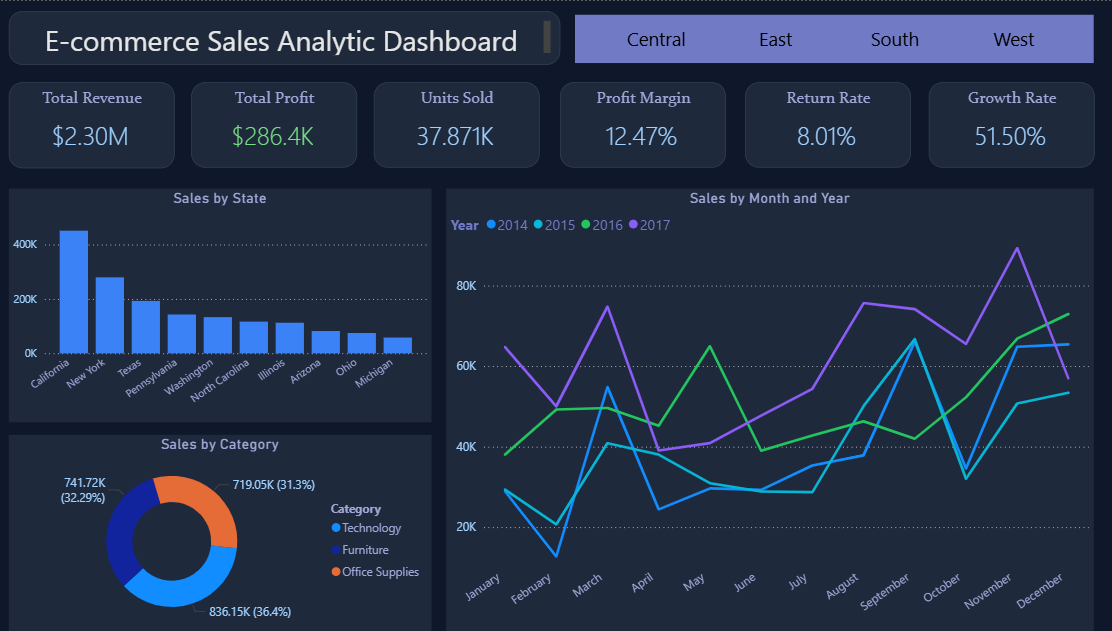

What the dashboard file says about the page in this screenshot:
{"tool":"powerbi","page":{"name":"Dashboard","canvas":[1280,720],"ordinal":0},"visuals":[{"type":"textbox","box":[10,11.7,630,61.7],"z":0},{"type":"cardVisual","title":"Total Revenue","fields":{"Data":["Sum(fact_orders__2.Sales)"]},"box":[9.6,93.3,189.4,98],"z":1000},{"type":"cardVisual","title":"Total Profit","fields":{"Data":["Sum(fact_orders__2.Profit)"]},"box":[218.2,93.3,189.4,97.4],"z":2000},{"type":"cardVisual","title":"Units  Sold","fields":{"Data":["Sum(fact_orders__2.Quantity)"]},"box":[426.8,93.3,189.4,97.4],"z":3000},{"type":"cardVisual","title":"Profit Margin","fields":{"Data":["fact_orders__2.Profit Margin"]},"box":[639.5,93.3,189.4,97.4],"z":4000},{"type":"cardVisual","title":"Return Rate","fields":{"Data":["fact_orders__2.Return Rate"]},"box":[850.8,93.3,189.4,97.4],"z":5000},{"type":"cardVisual","title":"Growth Rate","fields":{"Data":["fact_orders__2.Growth Rate"]},"box":[1060.7,93.3,189.4,97.4],"z":6000},{"type":"slicer","fields":{"Values":["customers_dim2.Region"]},"box":[657.3,15.1,592.8,54.9],"z":7000},{"type":"columnChart","title":"Sales by State","fields":{"Category":["customers_dim2.State"],"Y":["Sum(fact_orders__2.Sales)"]},"box":[9.6,214.1,483,267.6],"z":8000},{"type":"donutChart","title":"Sales by Category","fields":{"Y":["Sum(fact_orders__2.Sales)"],"Category":["product_dim1.Category"]},"box":[10,495,483,225],"z":9000},{"type":"lineChart","title":"Sales by Month and Year","fields":{"Category":["fact_orders__2.Order Date.Variation.Date Hierarchy.Month"],"Series":["fact_orders__2.Order Date.Variation.Date Hierarchy.Year"],"Y":["Sum(fact_orders__2.Sales)"]},"box":[510.5,214.1,739.6,506.3],"z":10000}]}

Visuals, with their boxes in screenshot pixels (x1, y1, x2, y2), scaled from the page's 1280x720 canvas onto the 1112x631 screenshot:
textbox: BBox(9, 10, 556, 64)
"Total Revenue" cardVisual: BBox(8, 82, 173, 168)
"Total Profit" cardVisual: BBox(190, 82, 354, 167)
"Units  Sold" cardVisual: BBox(371, 82, 535, 167)
"Profit Margin" cardVisual: BBox(556, 82, 720, 167)
"Return Rate" cardVisual: BBox(739, 82, 904, 167)
"Growth Rate" cardVisual: BBox(921, 82, 1086, 167)
slicer - customers_dim2.Region: BBox(571, 13, 1086, 61)
"Sales by State" columnChart: BBox(8, 188, 428, 422)
"Sales by Category" donutChart: BBox(9, 434, 428, 630)
"Sales by Month and Year" lineChart: BBox(443, 188, 1086, 630)
